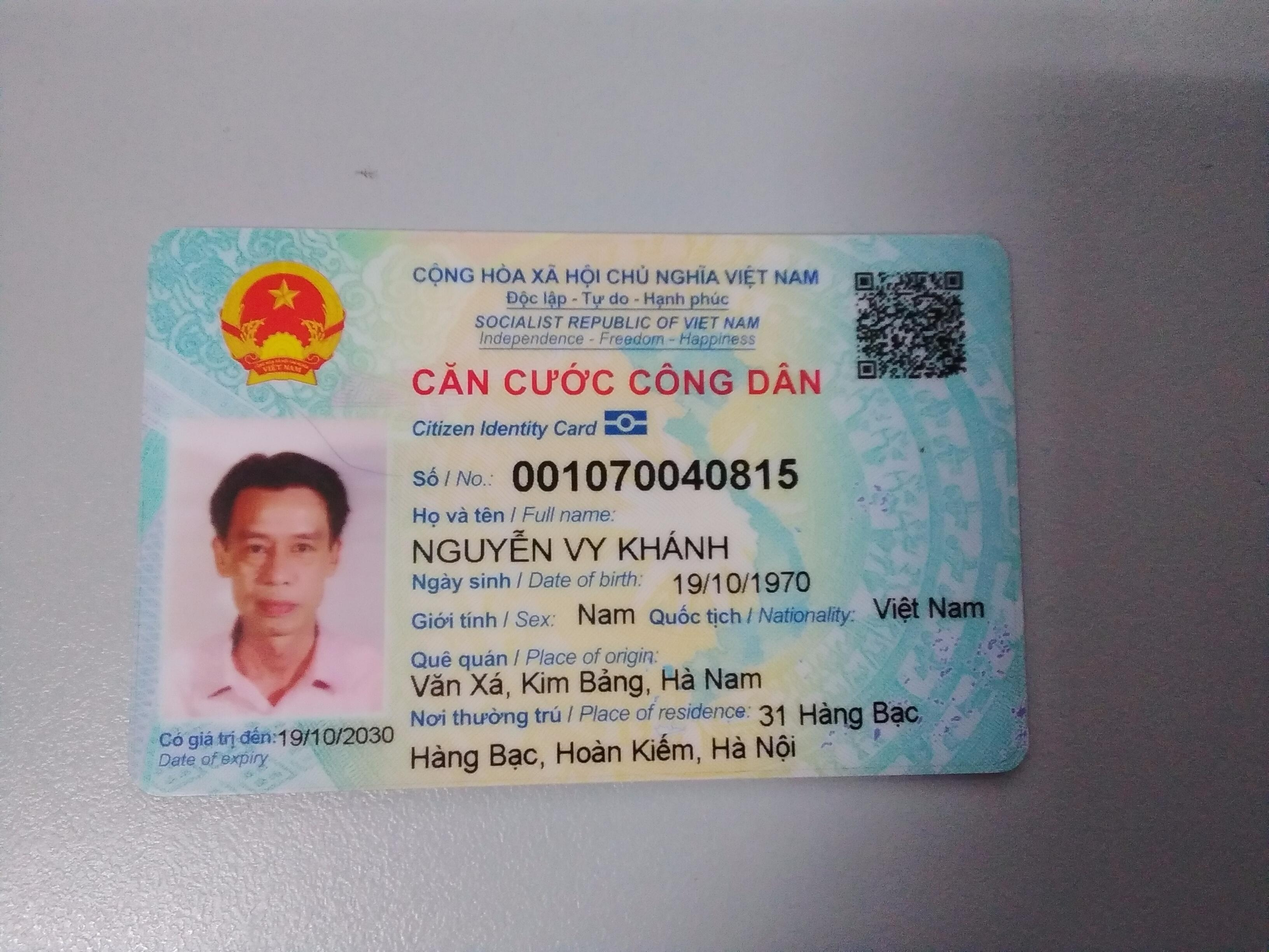ID: (504, 447, 813, 503)
birth: (663, 561, 820, 607)
name: (401, 527, 741, 572)
place: (398, 662, 774, 704)
residence: (403, 729, 813, 773), (750, 694, 937, 740)
